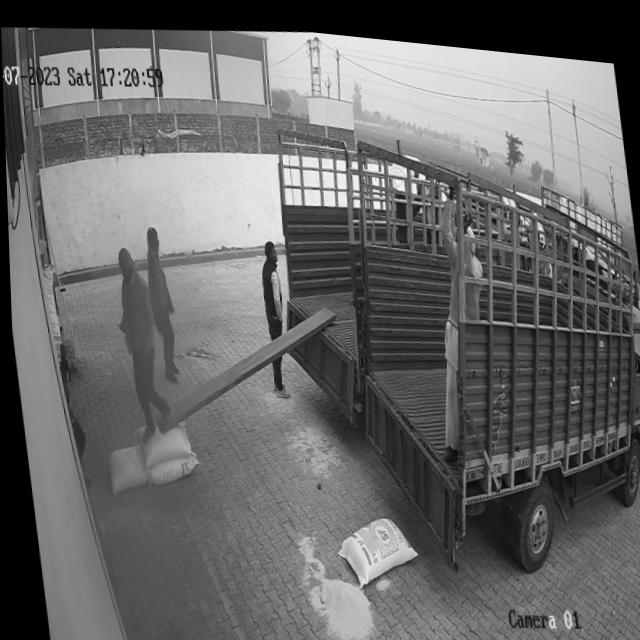sack: (329, 502, 417, 585), (137, 414, 189, 469), (100, 440, 146, 494), (143, 445, 198, 485)
